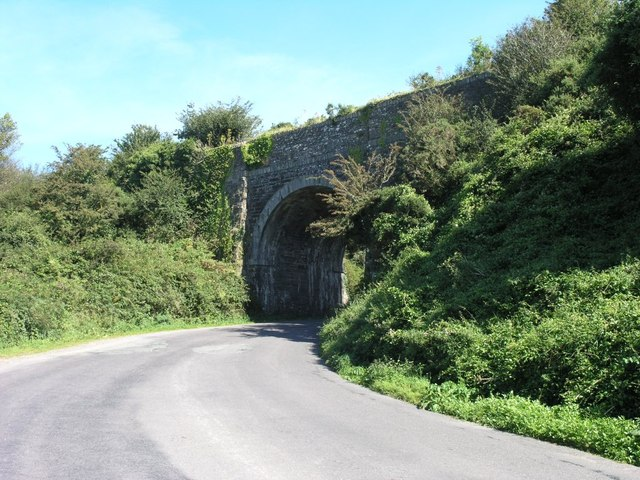bridge: (234, 75, 489, 319)
